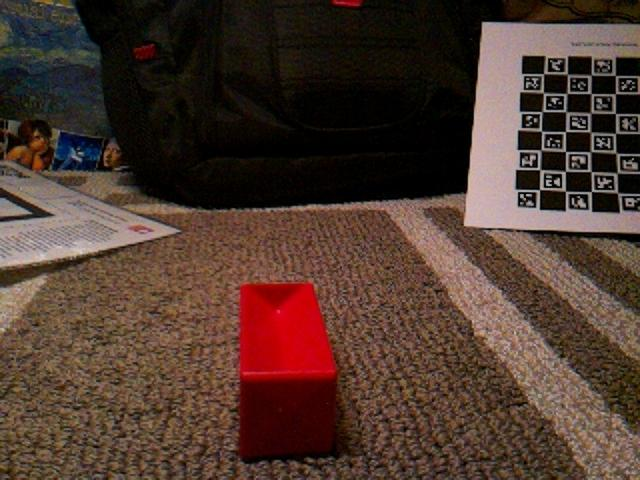red: (236, 280, 340, 462)
